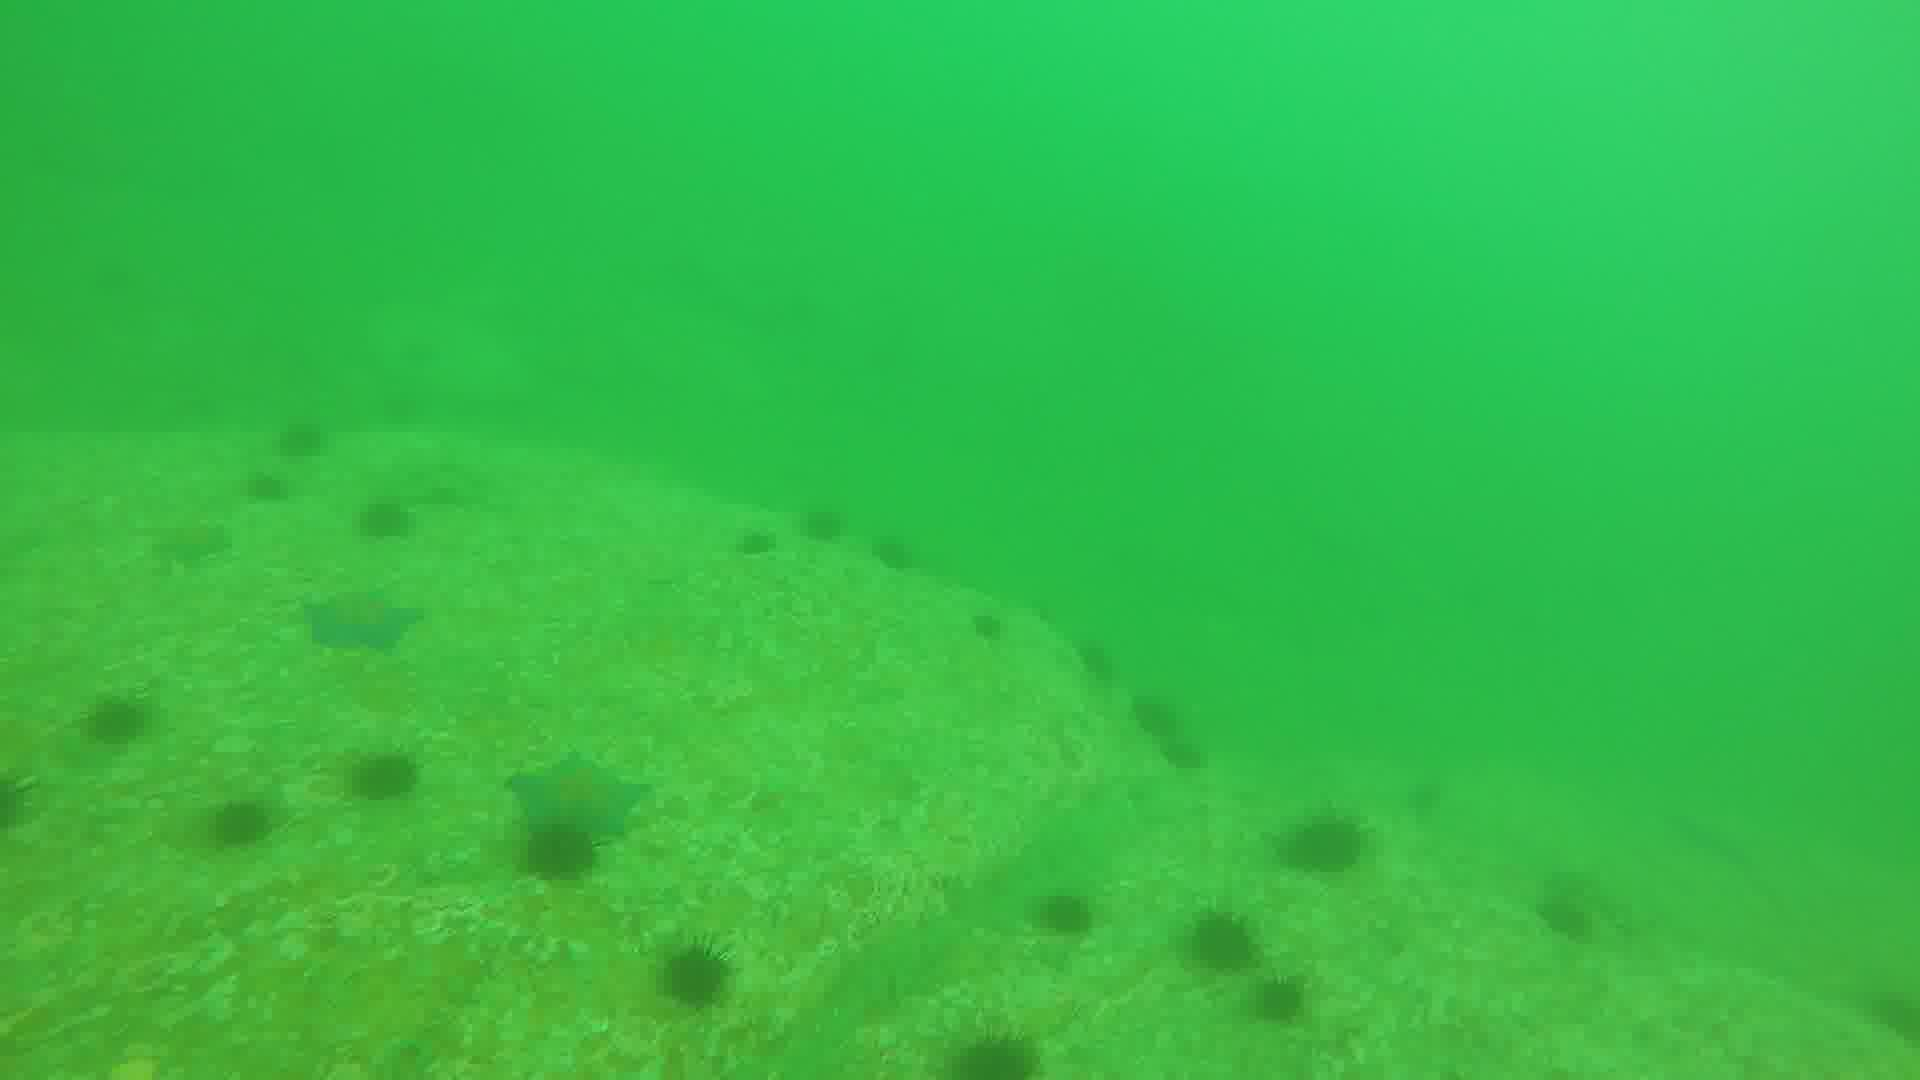echinus: (1274, 802, 1373, 880), (1183, 909, 1273, 981), (665, 940, 741, 1015), (516, 823, 599, 884), (353, 742, 426, 804), (949, 1035, 1047, 1080), (1034, 891, 1106, 942), (210, 798, 287, 844), (1247, 978, 1319, 1029), (84, 702, 162, 746), (352, 493, 421, 543), (793, 504, 861, 550), (1127, 690, 1183, 744), (1064, 638, 1116, 690), (276, 425, 331, 471), (869, 535, 928, 578), (1156, 723, 1211, 769), (735, 530, 791, 558), (969, 608, 1007, 644), (258, 471, 294, 497)
starfish: (502, 757, 651, 844), (301, 588, 426, 658), (149, 516, 237, 571)
